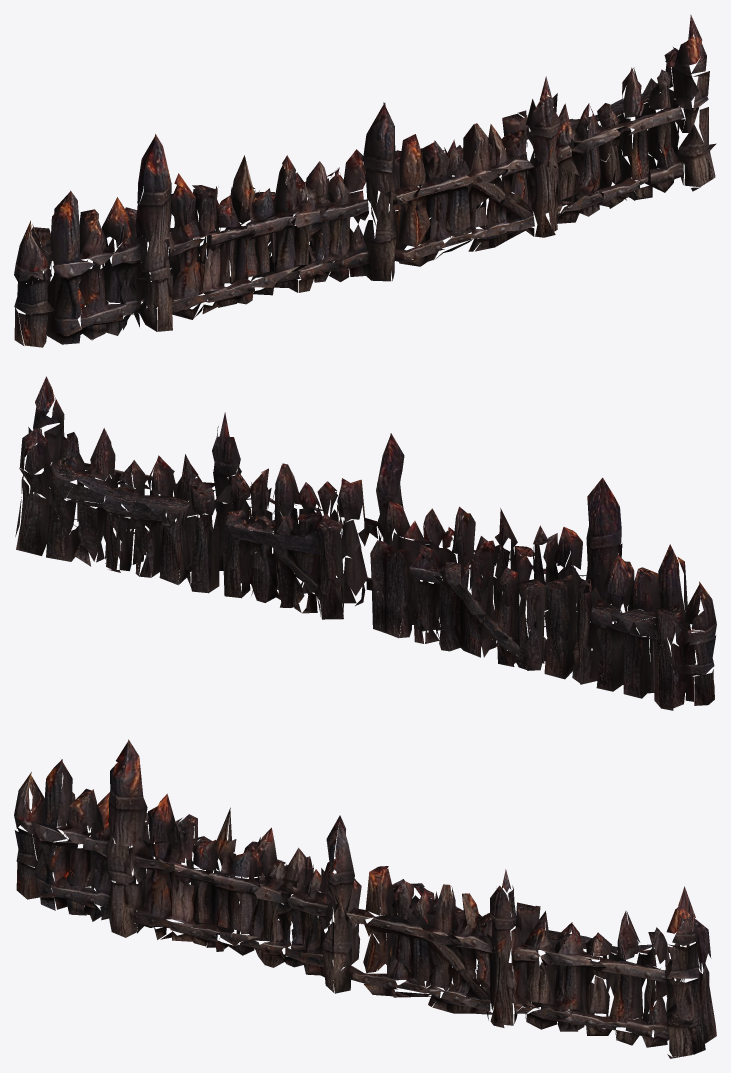
File: area4-east-fence.glb
The picture shows the model from 3 angles, top to bottom: view 1: azimuth 30°, elevation 25°; view 2: azimuth 150°, elevation 25°; view 3: azimuth 330°, elevation 25°; orthographic projection.
Visible parts, largest first — view 1: Area4_EastFence; view 2: Area4_EastFence; view 3: Area4_EastFence.
Boxes of the visible parts, x1,y1,x2,y2 form: Area4_EastFence: (14,14,716,347); Area4_EastFence: (15,376,716,710); Area4_EastFence: (14,739,716,1058).
Bounding box in the file's own units: 8.5 × 2.3 × 1.1.
1 material, 1 textured.
